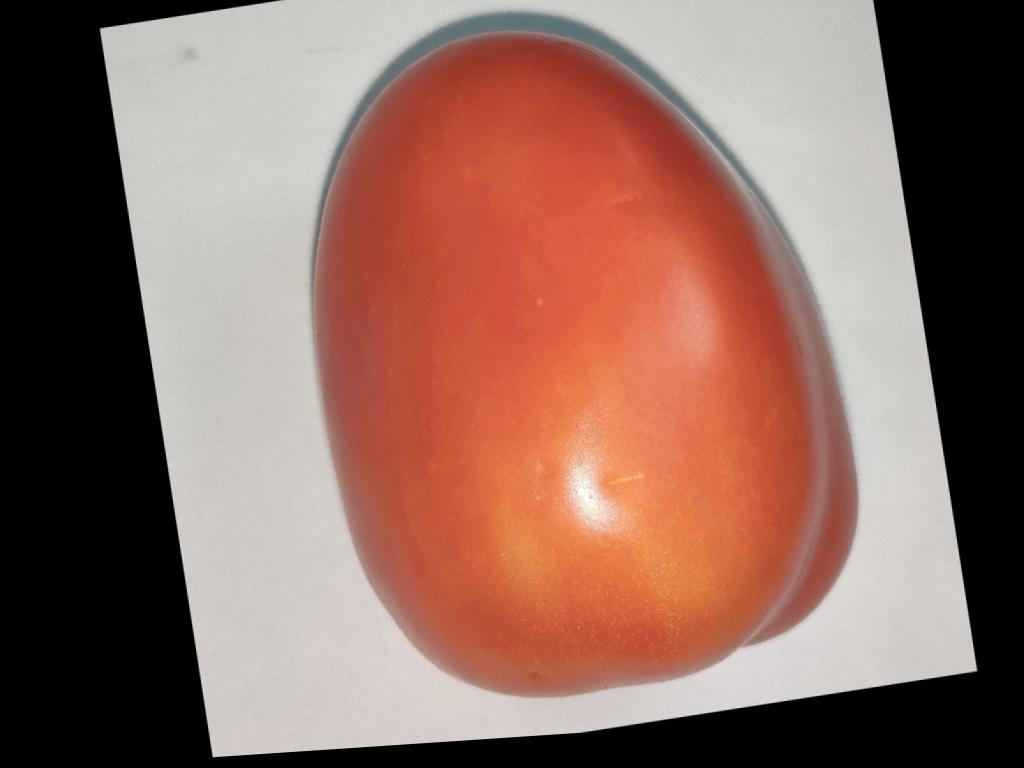tomato: (314, 31, 855, 696)
